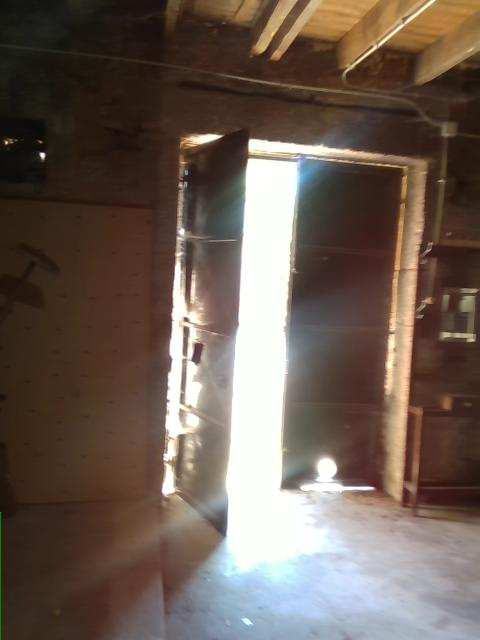semi_door: (158, 124, 412, 541)
